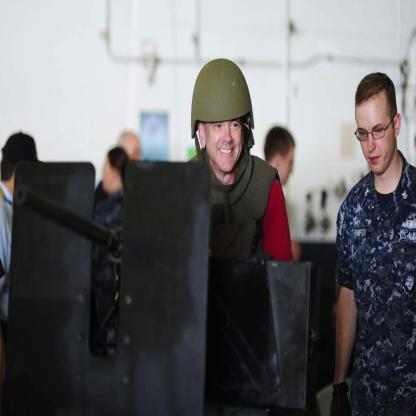Helmet: (191, 60, 261, 176)
